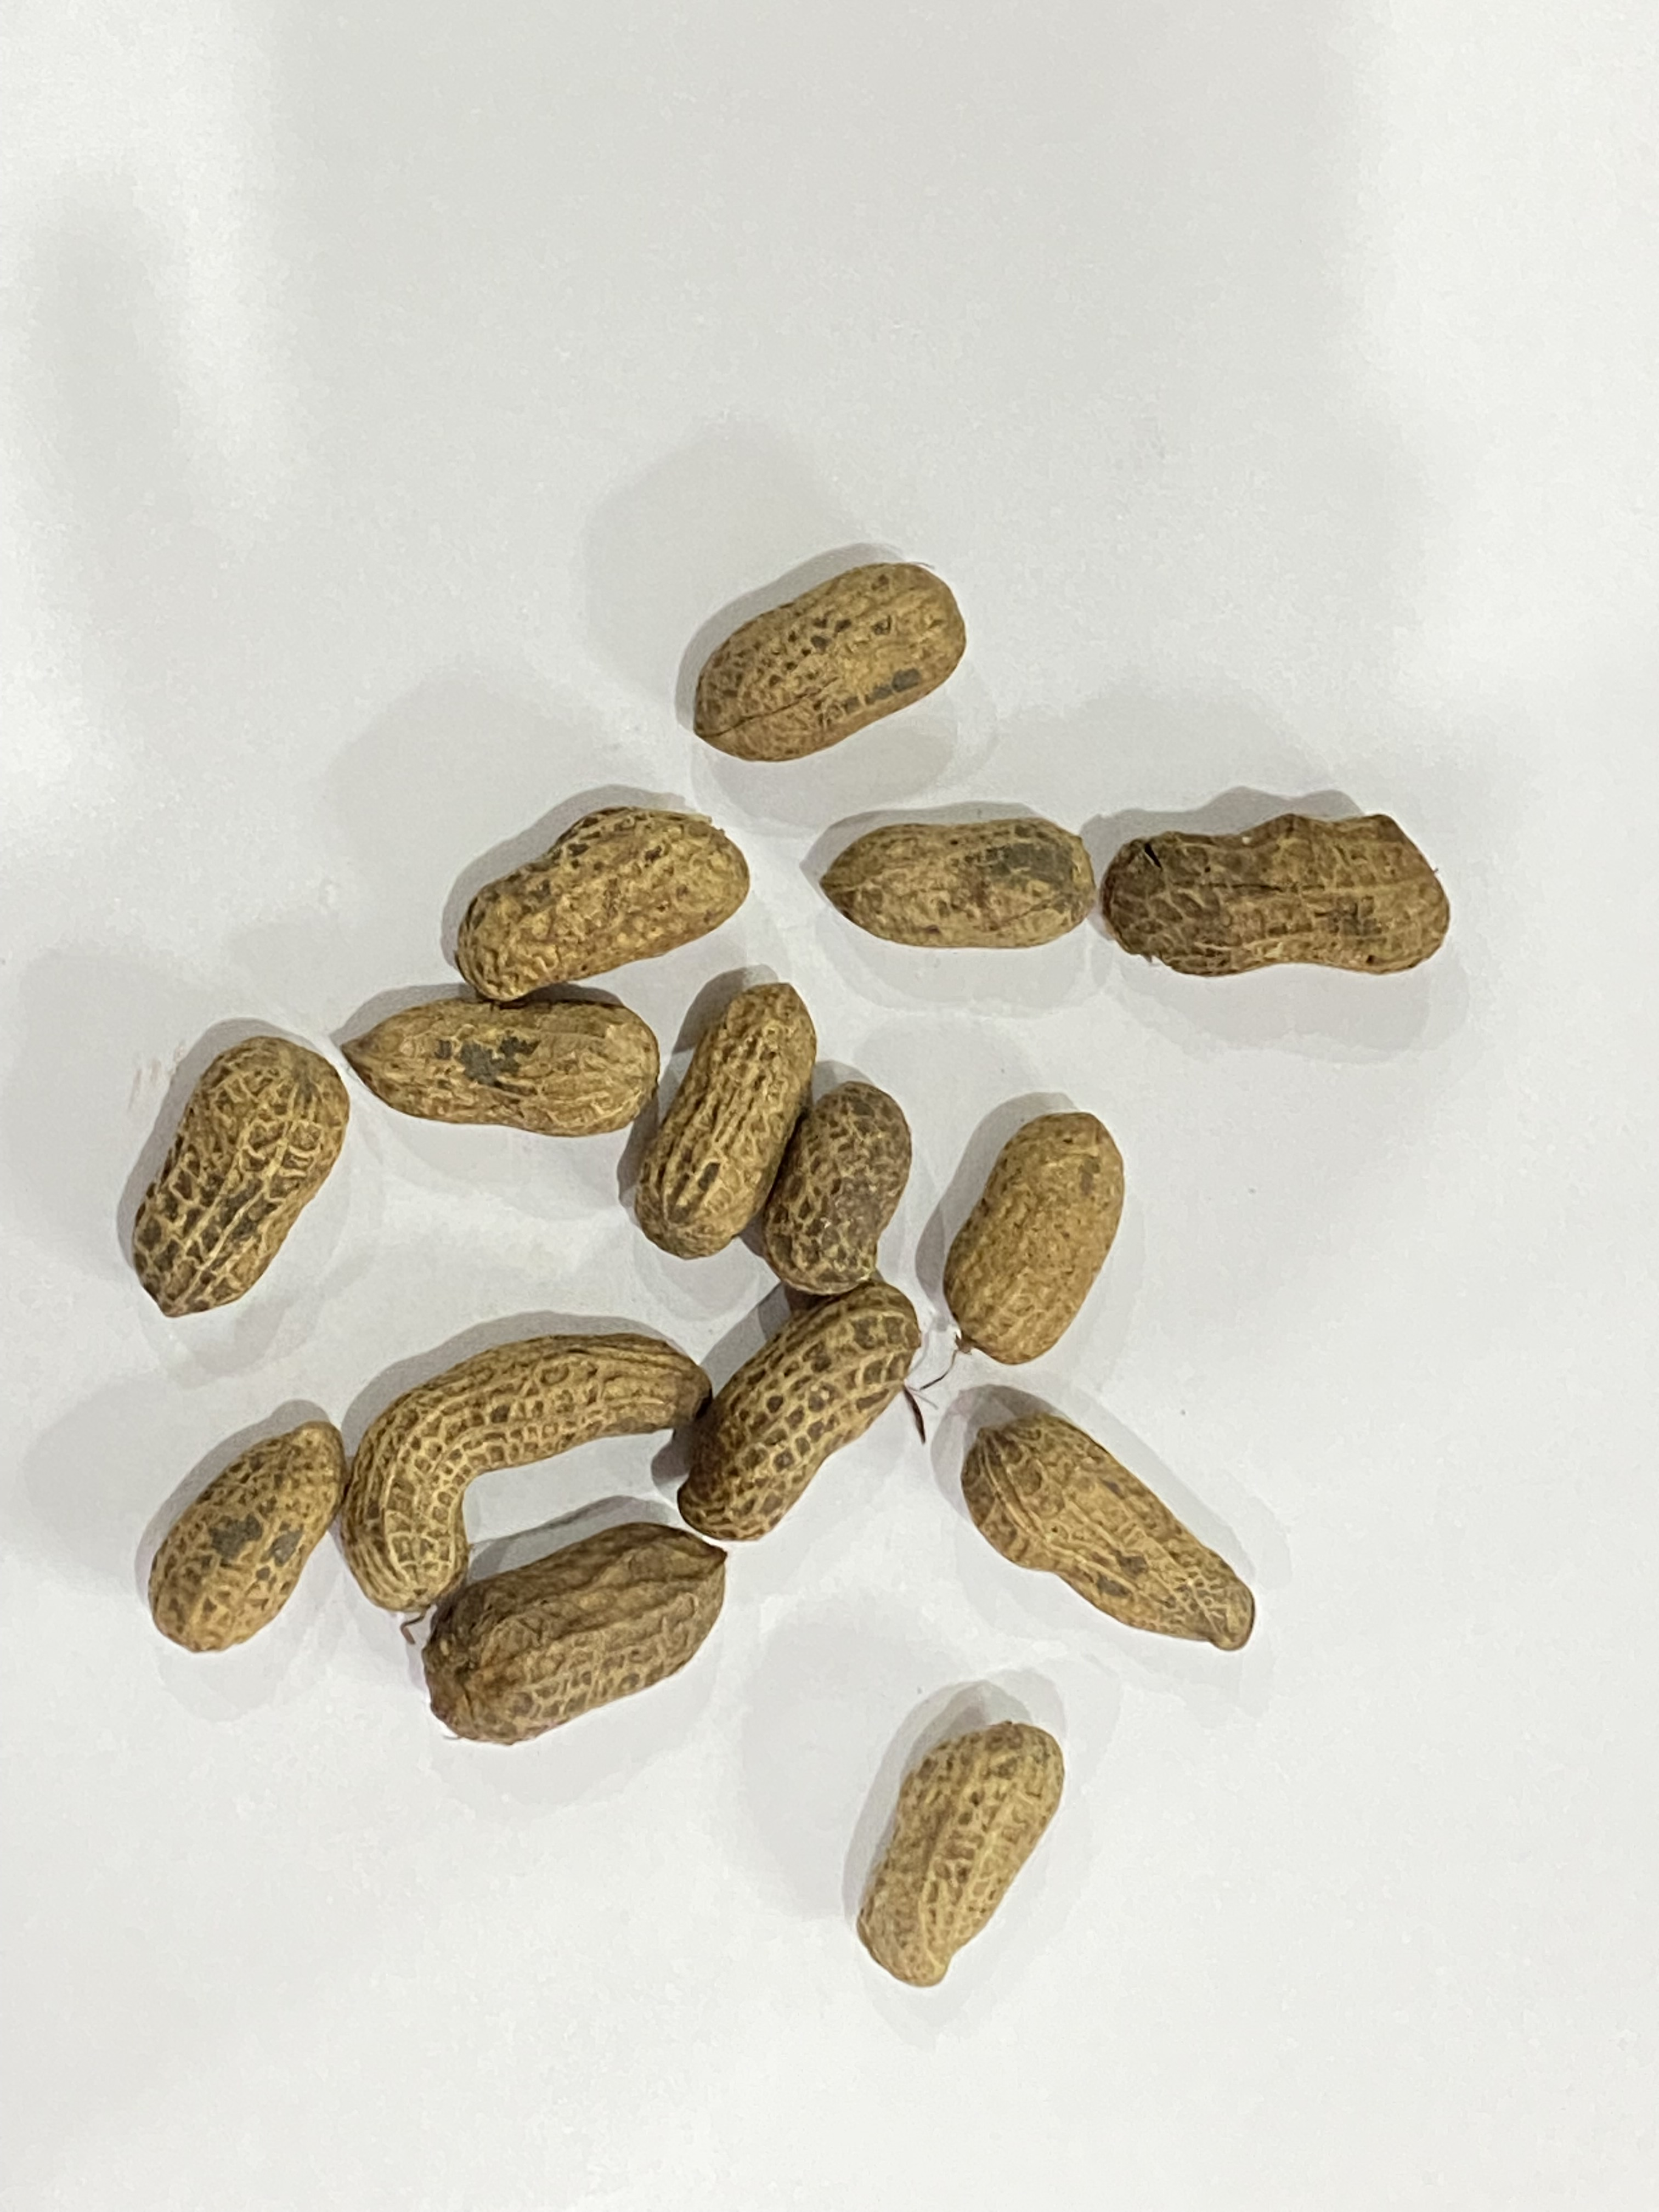kacang2: (962, 1414, 1274, 1648), (843, 1716, 1079, 1984), (132, 1038, 347, 1329), (690, 557, 964, 759), (945, 1113, 1126, 1364), (821, 815, 1098, 951)
kacang3: (1100, 808, 1476, 982)
